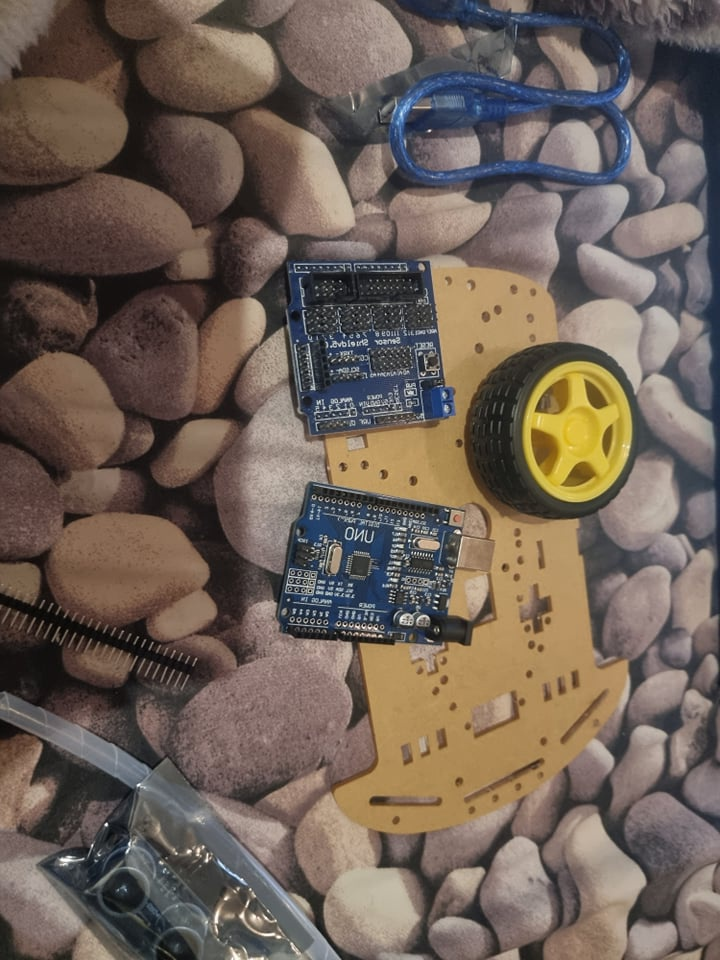5V EXPANSION: (292, 258, 456, 442)
SENSOR: (87, 838, 225, 960)
UNO R3: (274, 479, 493, 646)
